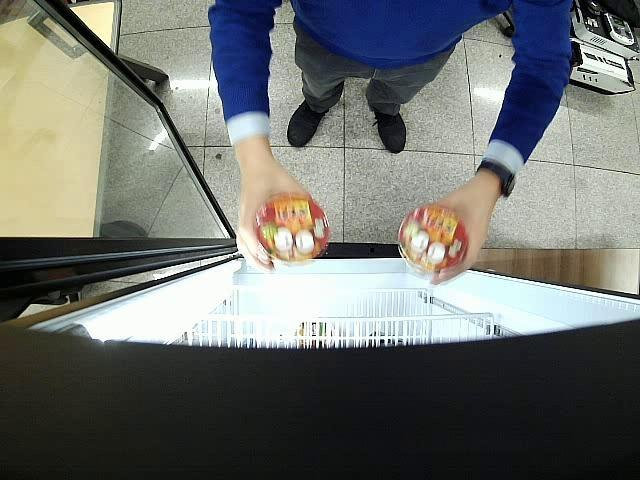06_nuguri_S: (254, 194, 330, 264), (398, 206, 468, 272)
